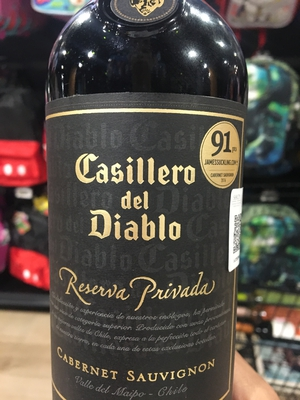casillero del diablo reserva privada cabernet sauvignon: (47, 14, 254, 400)
